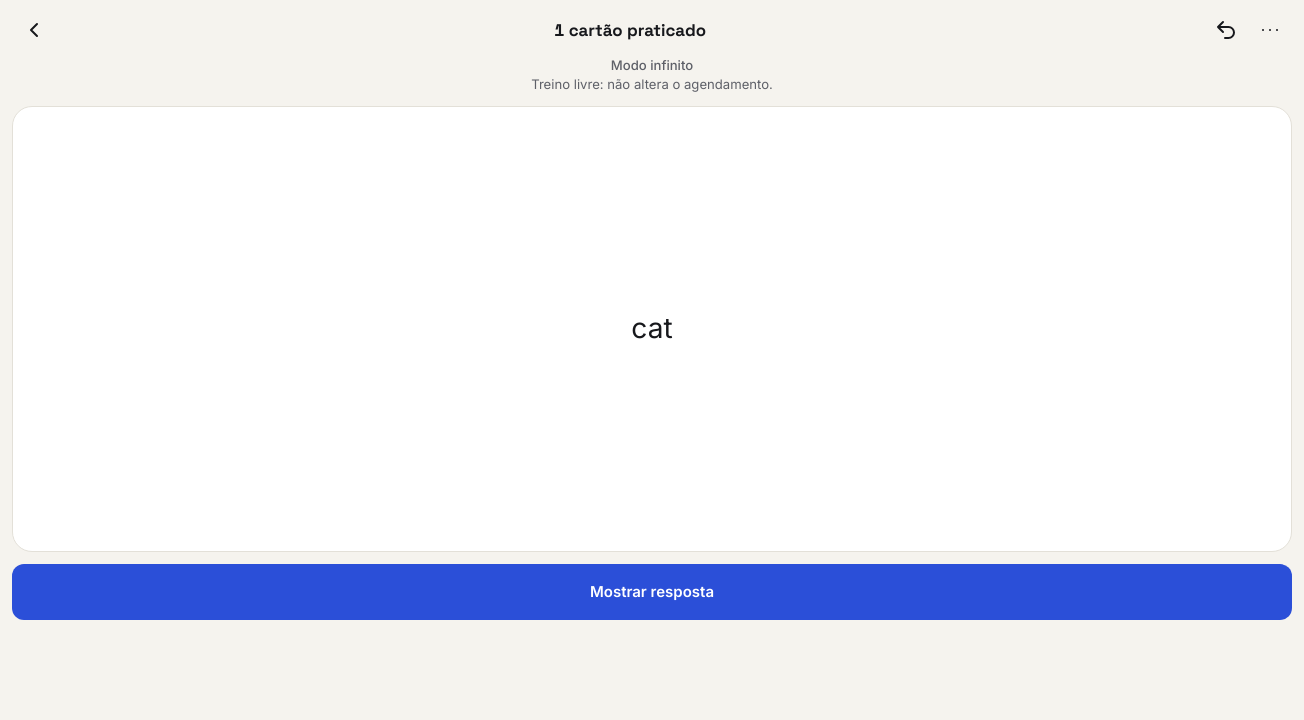
StudyScreen › infinite mode › keeps dealing cards, past the daily limits and without repeating one in a row
The image size is (1304, 720).
Earlier steps of the test are not shown.
Expected: the element with test id "card-content" does not show "dog"
Click the button "Mostrar resposta" at point(652, 592), box [12,564,1292,620]
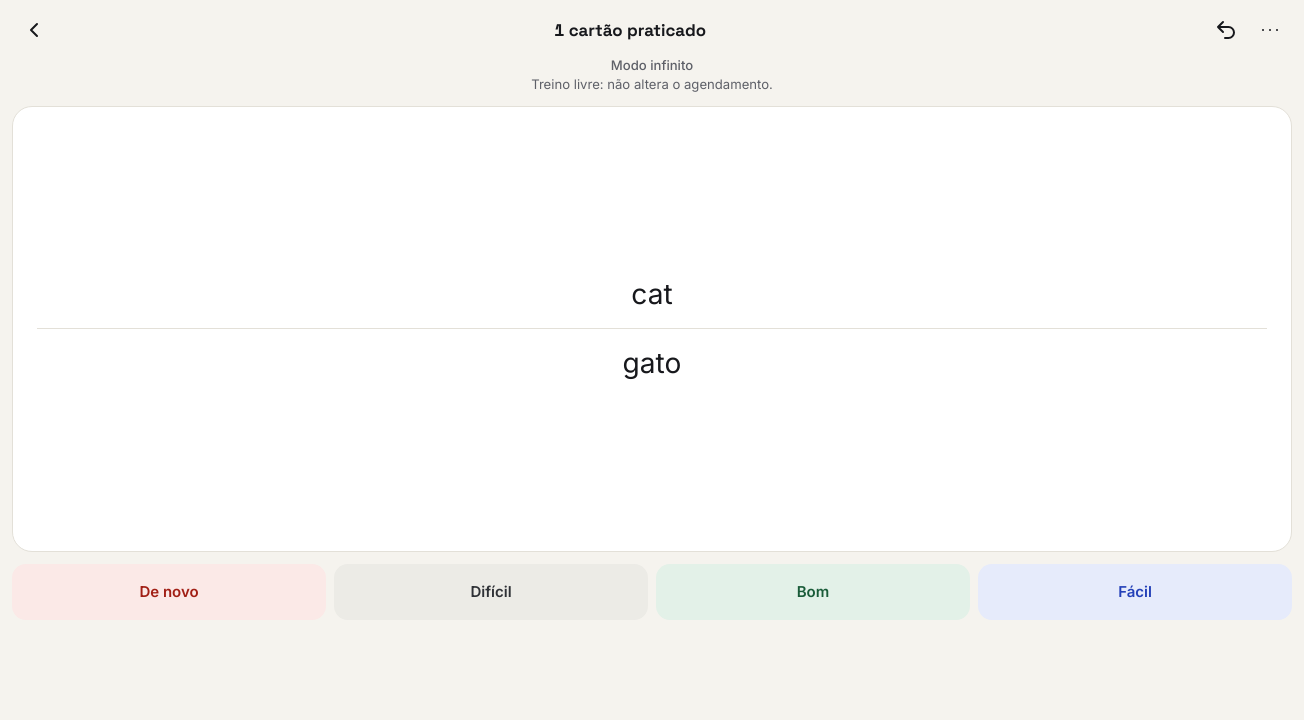
Click the button "Bom" at point(813, 592), box [656,564,970,620]
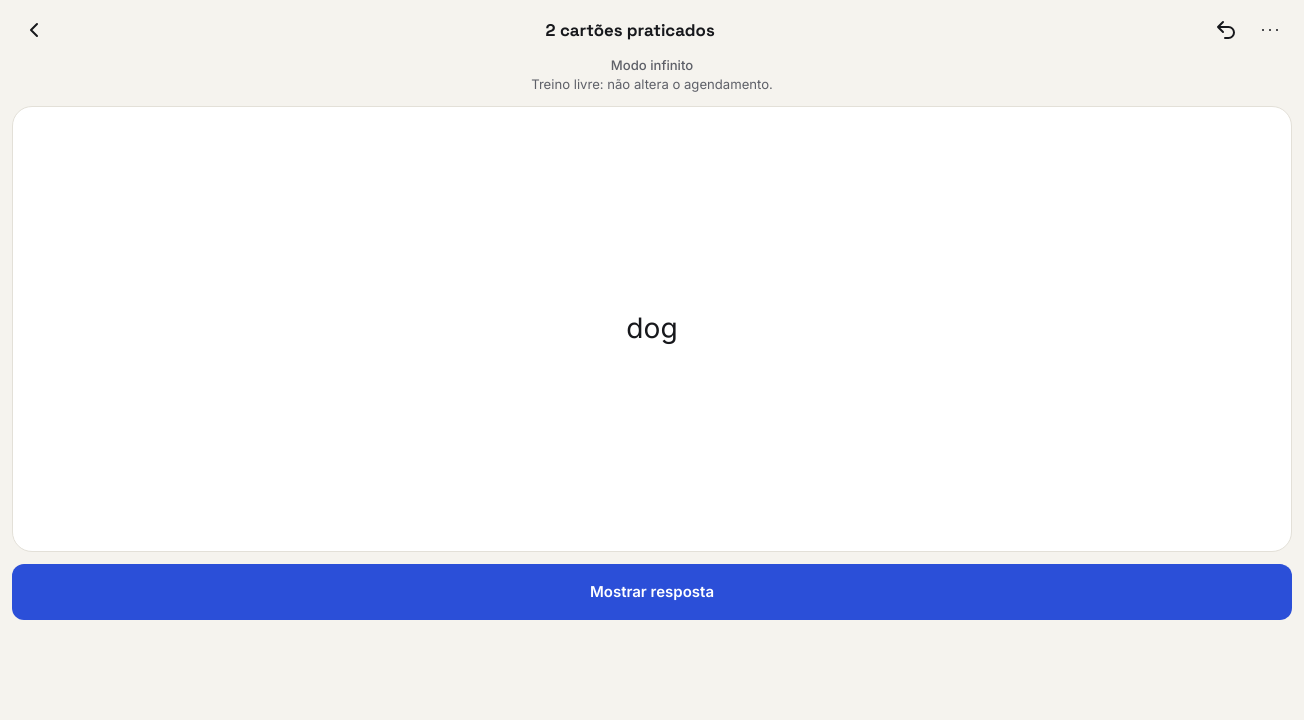
Expected: the element with test id "card-content" no longer shows "cat"
Click the button "Mostrar resposta" at point(652, 592), box [12,564,1292,620]
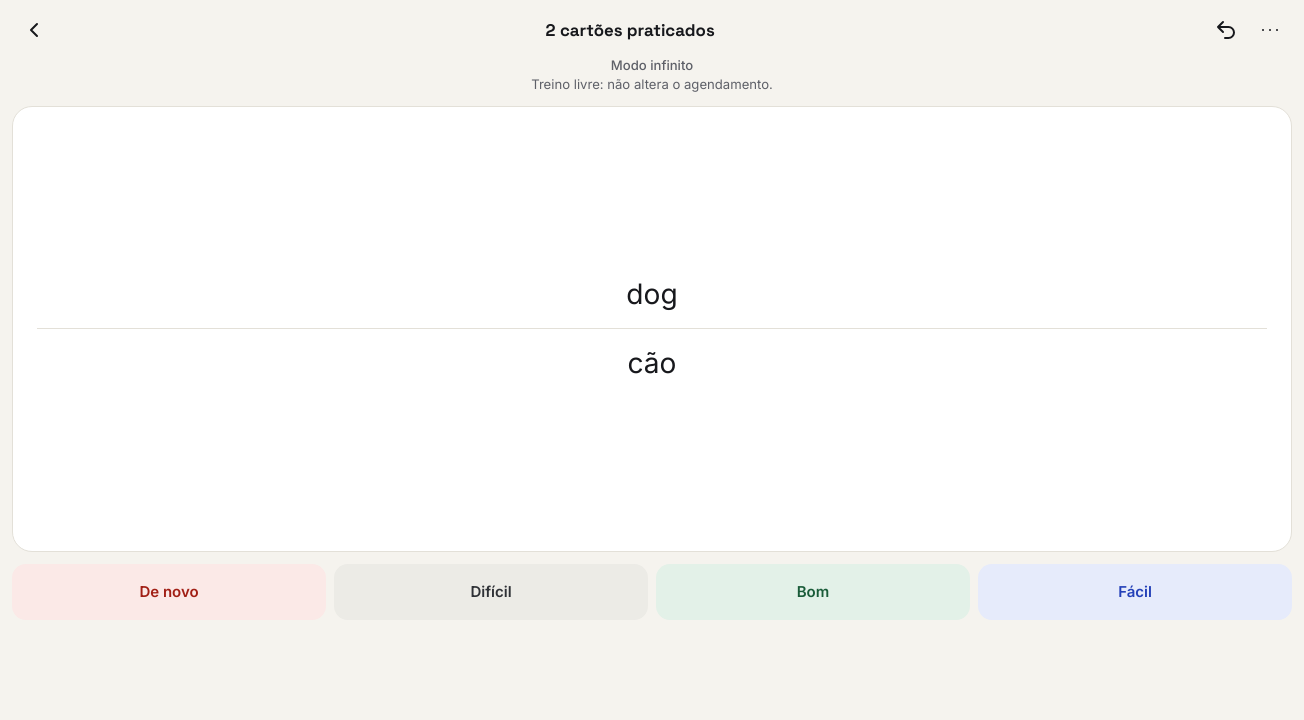
Click the button "Bom" at point(813, 592), box [656,564,970,620]
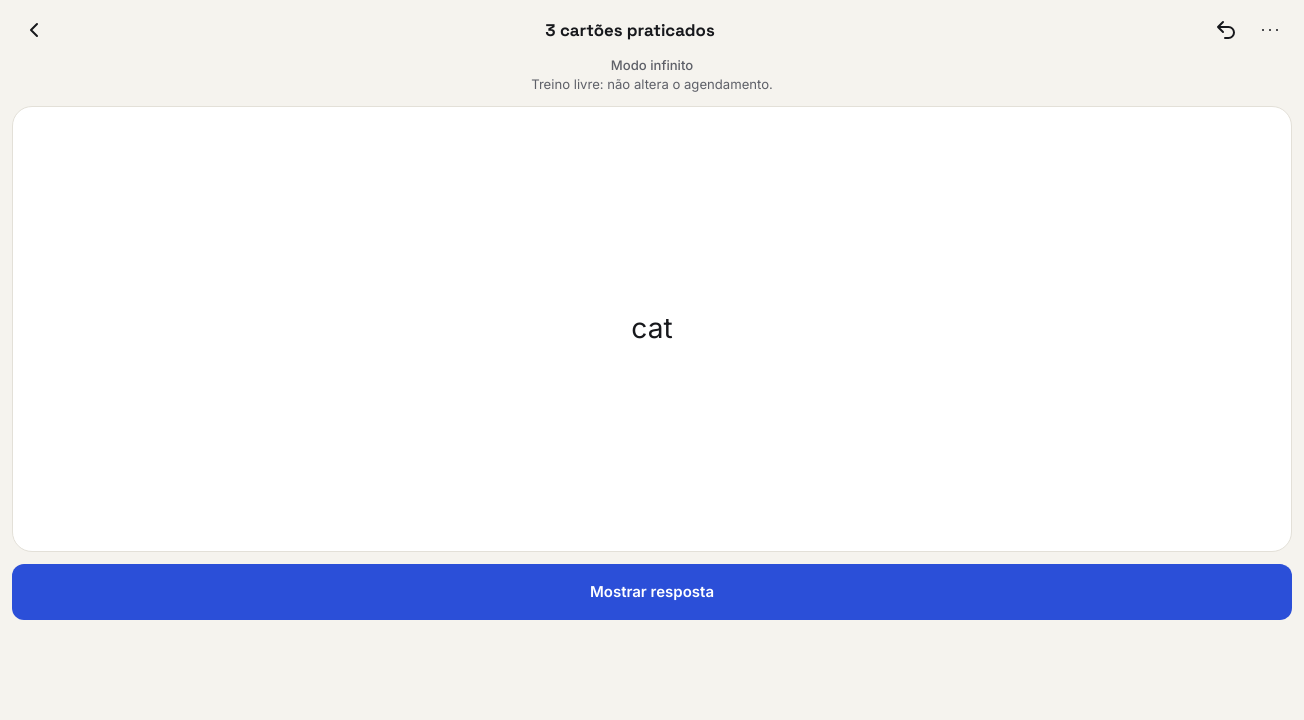
Expected: the element with test id "card-content" no longer shows "dog"
Click the button "Mostrar resposta" at point(652, 592), box [12,564,1292,620]
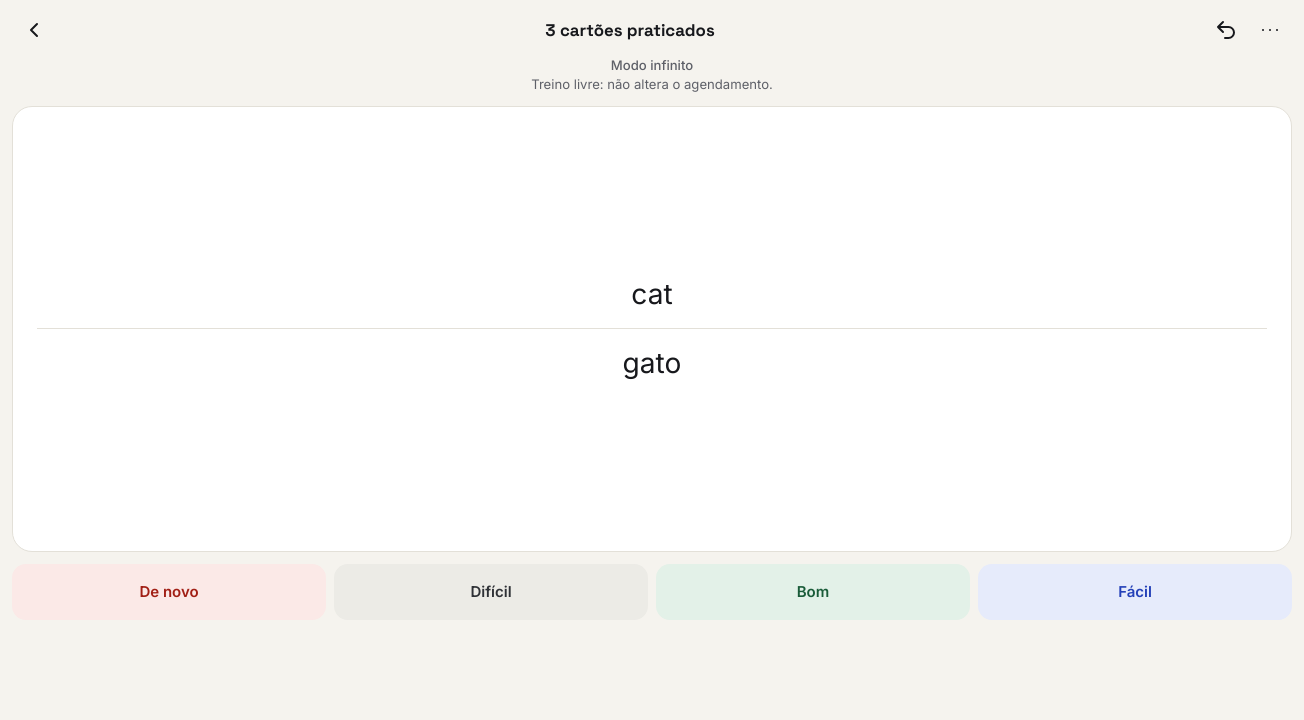
Click the button "Bom" at point(813, 592), box [656,564,970,620]
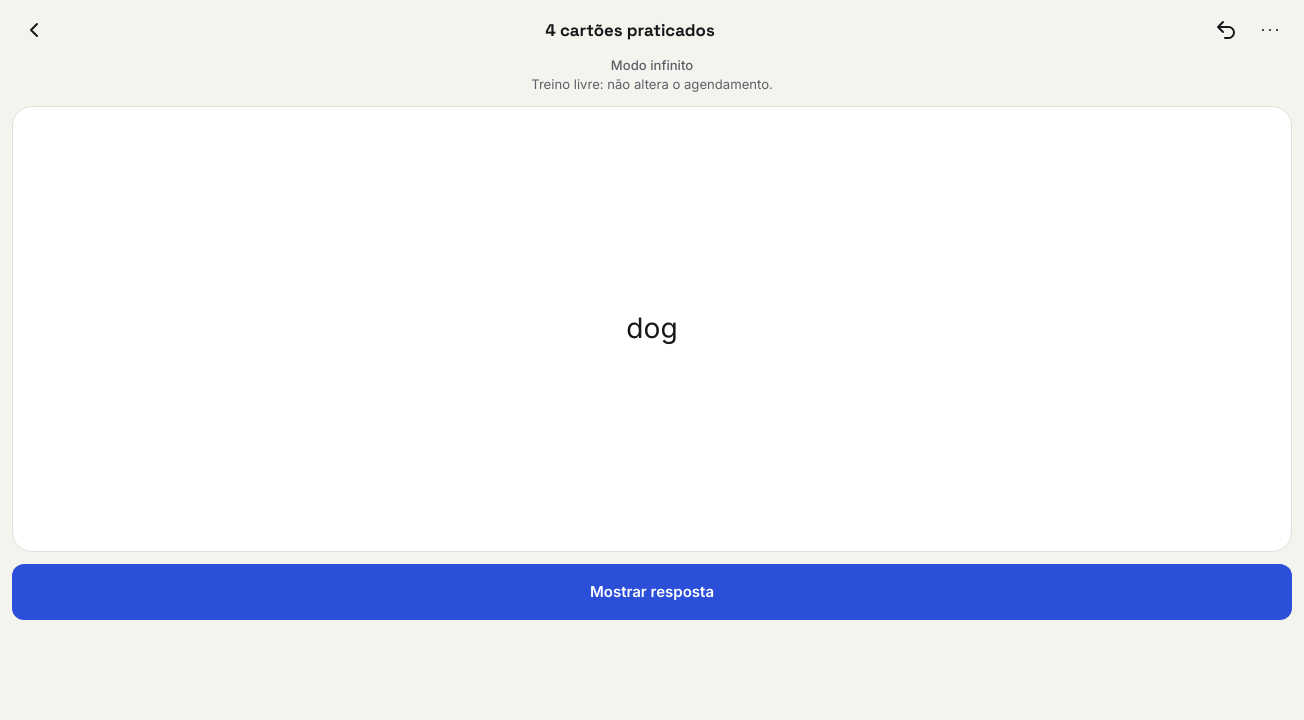
Expected: the element with test id "card-content" no longer shows "cat"
